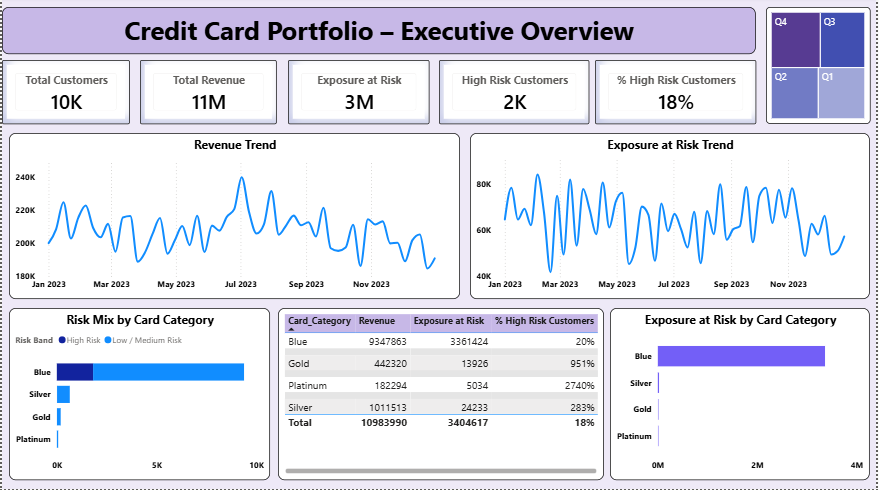

The page's visual inventory and layout, read from the dashboard file:
{"tool":"powerbi","page":{"name":"Executive","canvas":[1280,720],"ordinal":1},"visuals":[{"type":"textbox","box":[0,14.6,1103.4,68.8],"z":0},{"type":"lineChart","title":"Exposure at Risk Trend","fields":{"Y":["cc_detail.Exposure at Risk"],"Category":["cc_detail.Week_Start_Date.Variation.Date Hierarchy.Year","cc_detail.Week_Start_Date.Variation.Date Hierarchy.Month","cc_detail.Week_Start_Date.Variation.Date Hierarchy.Day"]},"box":[685.4,198.7,584.6,243.4],"z":1000},{"type":"barChart","title":"Exposure at Risk by Card Category","fields":{"Category":["cc_detail.Card_Category"],"Y":["cc_detail.Exposure at Risk"]},"box":[889.9,455,380.2,252],"z":2000},{"type":"lineChart","title":"Revenue Trend","fields":{"Y":["cc_detail.Revenue"],"Category":["cc_detail.Week_Start_Date.Variation.Date Hierarchy.Year","cc_detail.Week_Start_Date.Variation.Date Hierarchy.Month","cc_detail.Week_Start_Date.Variation.Date Hierarchy.Day"]},"box":[10.2,199,660,242.9],"z":3000},{"type":"cardVisual","fields":{"Data":["cc_detail.Revenue"]},"box":[201.6,92.2,200,93.6],"z":4000},{"type":"barChart","title":"Risk Mix by Card Category","fields":{"Series":["cc_detail.Risk Band"],"Category":["cc_detail.Card_Category"],"Y":["cc_detail.Customer_Count"]},"box":[10.2,455.1,382,251.7],"z":5000},{"type":"cardVisual","fields":{"Data":["cc_detail.Customer_Count"]},"box":[0,92.2,187.3,93.7],"z":6000},{"type":"cardVisual","fields":{"Data":["cc_detail.Exposure at Risk"]},"box":[419,92.2,207.4,93.6],"z":8000},{"type":"treemap","fields":{"Group":["cc_detail.Qtr"],"Values":["Avg(cc_detail.Client_Num)"]},"box":[1117.4,14.4,152.6,171.4],"z":9000},{"type":"cardVisual","fields":{"Data":["cc_detail.High Risk Customers"]},"box":[639.4,92.2,220.3,93.6],"z":10000},{"type":"tableEx","fields":{"Values":["cc_detail.Card_Category","cc_detail.Revenue","cc_detail.Exposure at Risk","cc_detail.% High Risk Customers"]},"box":[403.2,455,476.6,252],"z":11000},{"type":"cardVisual","fields":{"Data":["cc_detail.% High Risk Customers"]},"box":[868.3,92.2,236.2,93.6],"z":12000}]}

Visuals, with their boxes in screenshot pixels (x1, y1, x2, y2), scaled from the page's 1280x720 canvas onto the 879x490 screenshot:
textbox: Rect(0, 10, 758, 57)
"Exposure at Risk Trend" lineChart: Rect(471, 135, 872, 301)
"Exposure at Risk by Card Category" barChart: Rect(611, 310, 872, 481)
"Revenue Trend" lineChart: Rect(7, 135, 460, 301)
cardVisual - cc_detail.Revenue: Rect(138, 63, 276, 126)
"Risk Mix by Card Category" barChart: Rect(7, 310, 269, 481)
cardVisual - cc_detail.Customer_Count: Rect(0, 63, 129, 127)
cardVisual - cc_detail.Exposure at Risk: Rect(288, 63, 430, 126)
treemap - cc_detail.Qtr x Avg(cc_detail.Client_Num): Rect(767, 10, 872, 126)
cardVisual - cc_detail.High Risk Customers: Rect(439, 63, 590, 126)
tableEx - cc_detail.Card_Category x cc_detail.Revenue: Rect(277, 310, 604, 481)
cardVisual - cc_detail.% High Risk Customers: Rect(596, 63, 758, 126)
